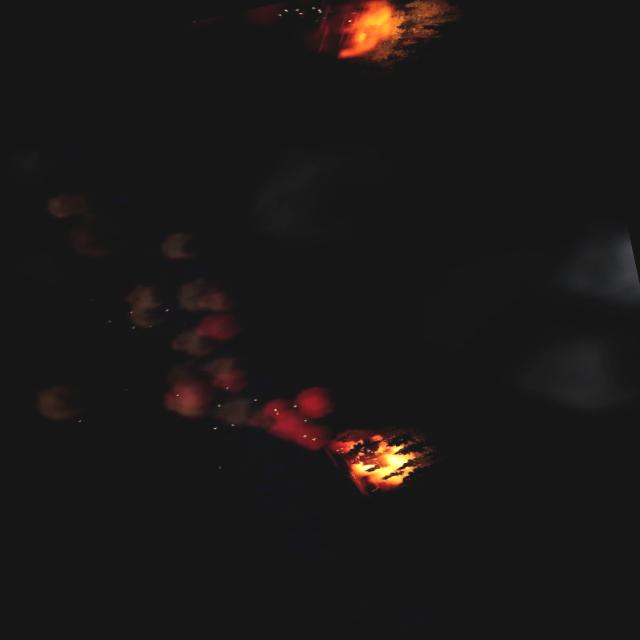fire: (321, 0, 407, 64), (341, 428, 419, 494)
smoke: (128, 258, 343, 480), (549, 214, 640, 330)
